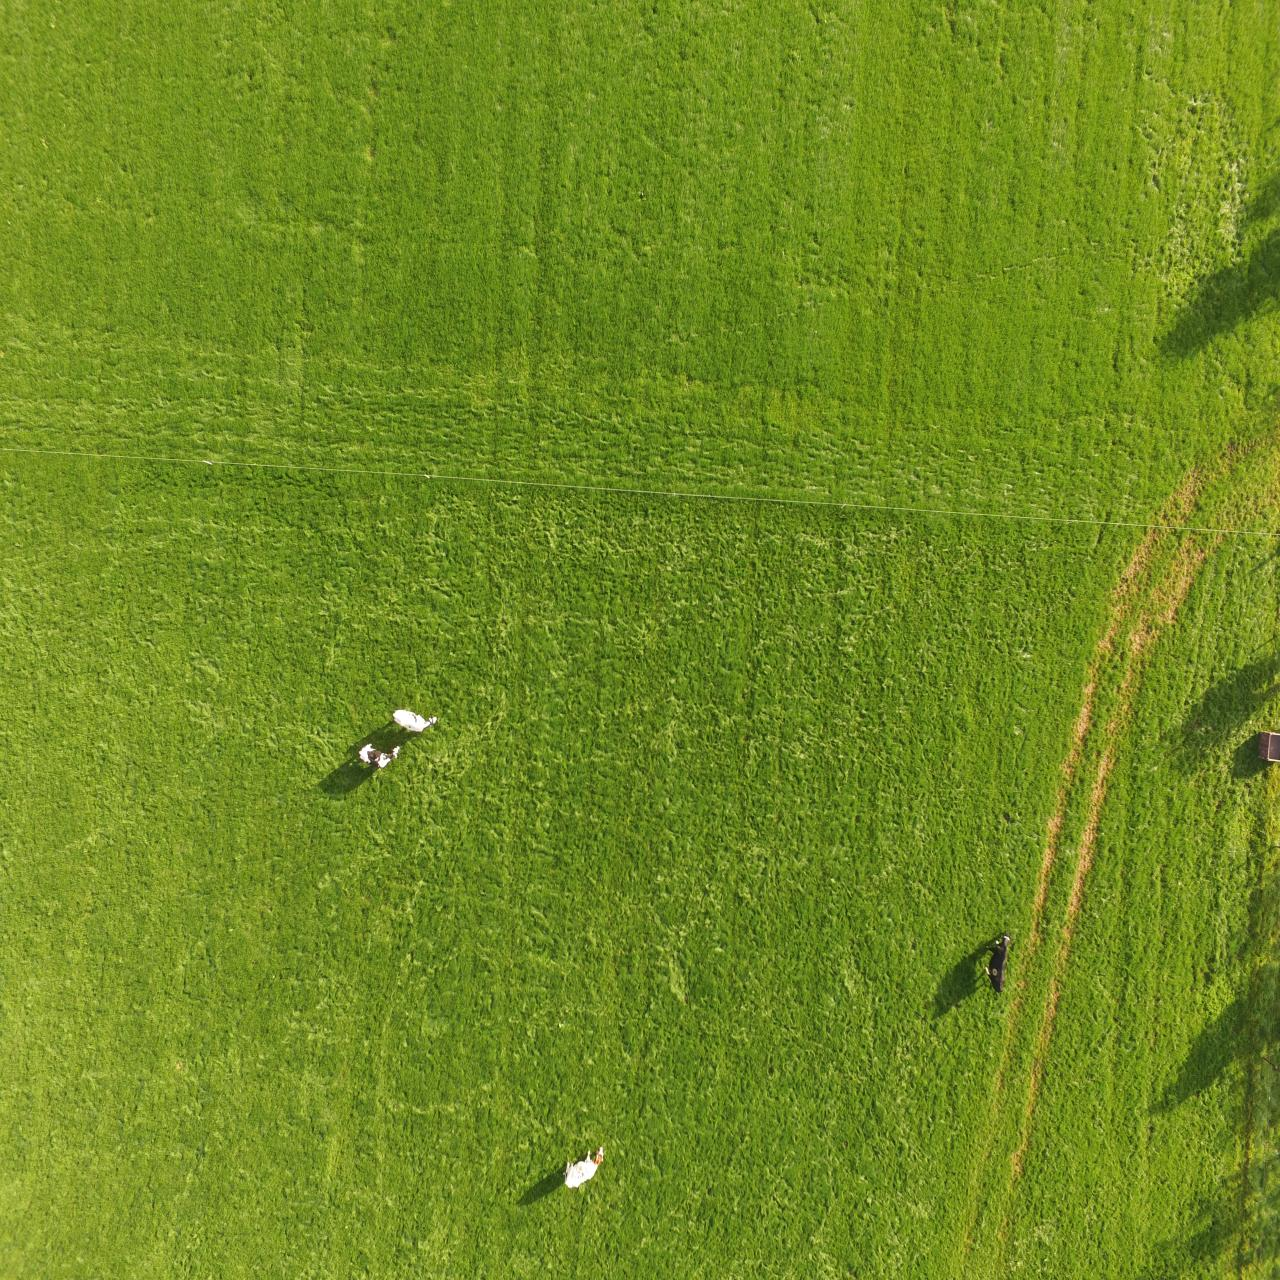cow: (982, 927, 1014, 995), (561, 1143, 605, 1191), (390, 707, 437, 734), (359, 742, 401, 769)
